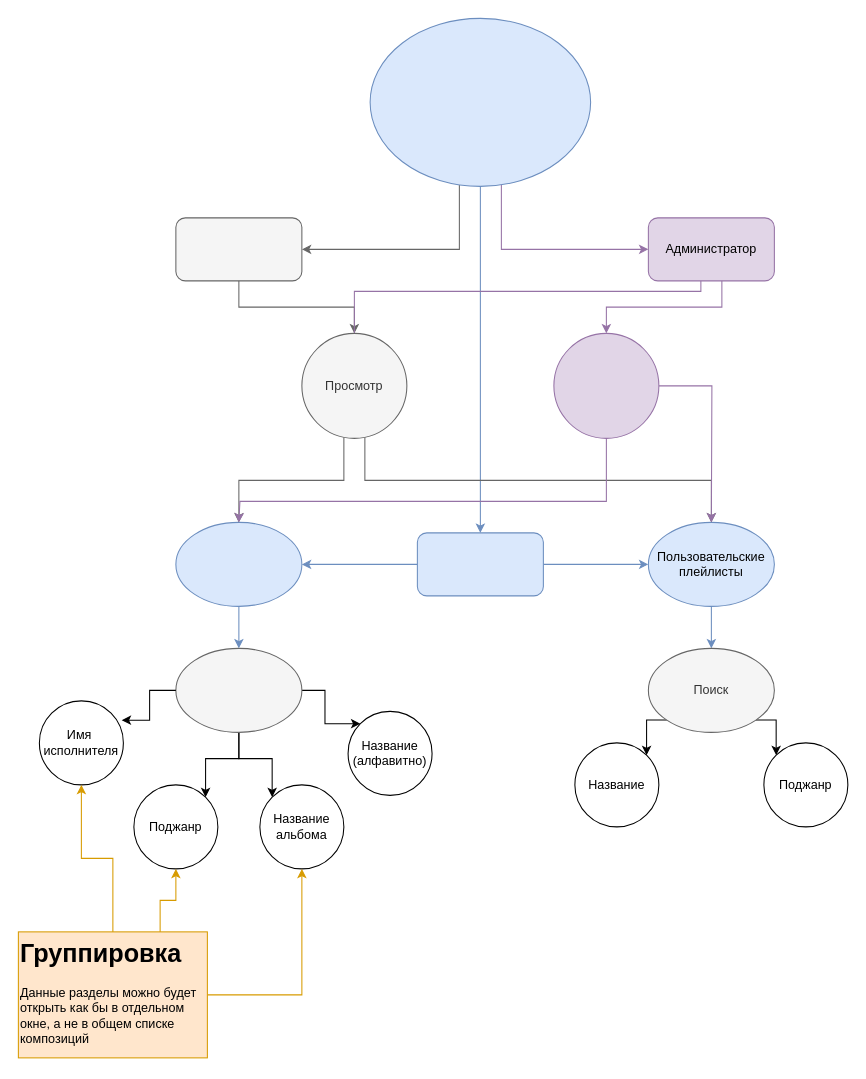
Some shapes in this 866 by 1079 pixel diagram are drawn without their labels. Each missing label, with the centre of its shape:
"Библиотека музыки рок-музыки небольшого сайта" belongs at (x=480, y=101).
"Пользователь" belongs at (x=238, y=249).
"Редакти рование" belongs at (x=606, y=385).
"Рок-композиции" belongs at (x=238, y=563).
"Сортировка и поиск" belongs at (x=238, y=689).
"Хранилище" belongs at (x=479, y=564).
